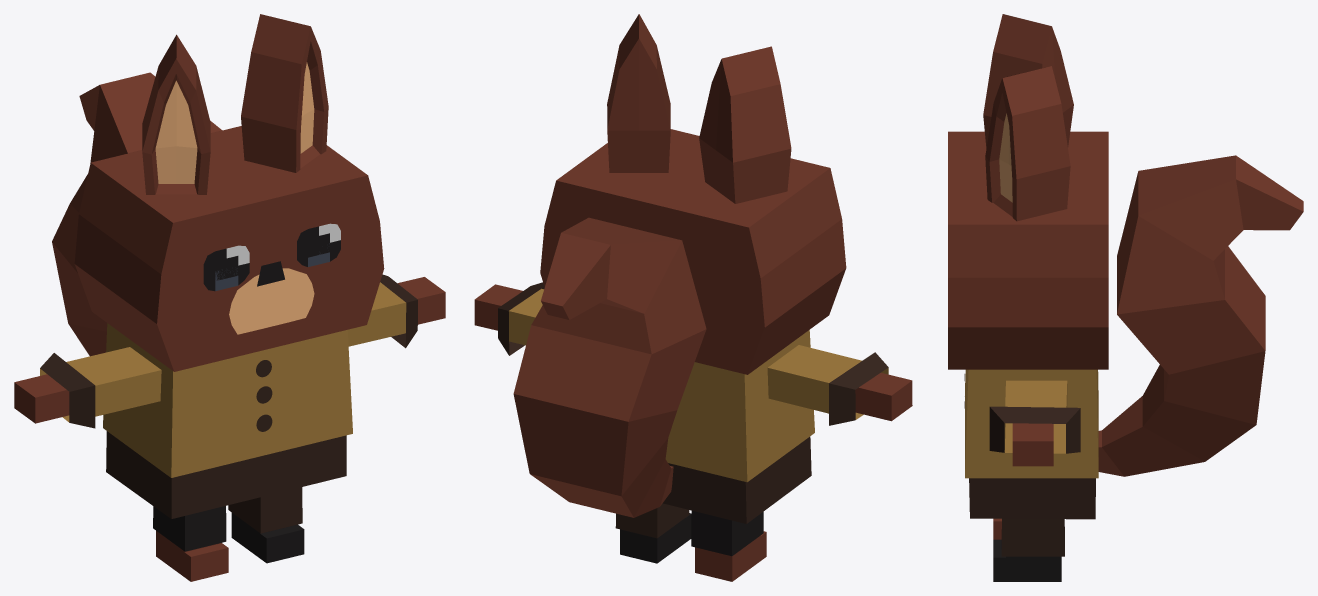
File: npc_basic form_dotori npc4.fbx
3 views of the same model, side by side, from view 1: azimuth 30°, elevation 25°; view 2: azimuth 150°, elevation 25°; view 3: azimuth 270°, elevation 25° (orthographic). The views are drawn at different scales.
Visible parts, largest first — view 1: head, clothes, pants, tail, clothes.R, Leg.R.002, Leg.L, mouth, eyes, clothes.L, arm.R, arm.L (+1 smaller); view 2: head, tail, clothes, pants, clothes.R, Leg.R.002, Leg.L, arm.R, clothes.L, arm.L; view 3: head, tail, clothes, pants, clothes.L, Leg.L, arm.L.
Boxes of the visible parts, <box> form: head: <box>74,14,384,371</box>; clothes: <box>103,323,352,477</box>; pants: <box>106,431,346,518</box>; tail: <box>52,72,222,356</box>; clothes.R: <box>40,347,161,428</box>; Leg.R.002: <box>153,506,228,581</box>; Leg.L: <box>228,487,304,563</box>; mouth: <box>229,261,314,334</box>; eyes: <box>203,223,340,291</box>; clothes.L: <box>347,274,417,348</box>; arm.R: <box>14,374,69,423</box>; arm.L: <box>397,277,445,324</box>; head: <box>540,14,846,374</box>; tail: <box>513,217,706,517</box>; clothes: <box>665,330,814,482</box>; pants: <box>663,436,811,523</box>; clothes.R: <box>767,345,888,425</box>; Leg.R.002: <box>691,510,766,581</box>; Leg.L: <box>615,503,691,563</box>; arm.R: <box>855,373,912,421</box>; clothes.L: <box>498,282,544,355</box>; arm.L: <box>474,284,522,330</box>; head: <box>948,14,1108,369</box>; tail: <box>1098,155,1303,476</box>; clothes: <box>965,369,1098,478</box>; pants: <box>969,478,1095,519</box>; clothes.L: <box>989,380,1080,453</box>; Leg.L: <box>993,518,1064,581</box>; arm.L: <box>1012,423,1053,466</box>.
Bounding box in the file's own units: 673 × 806 × 520.
